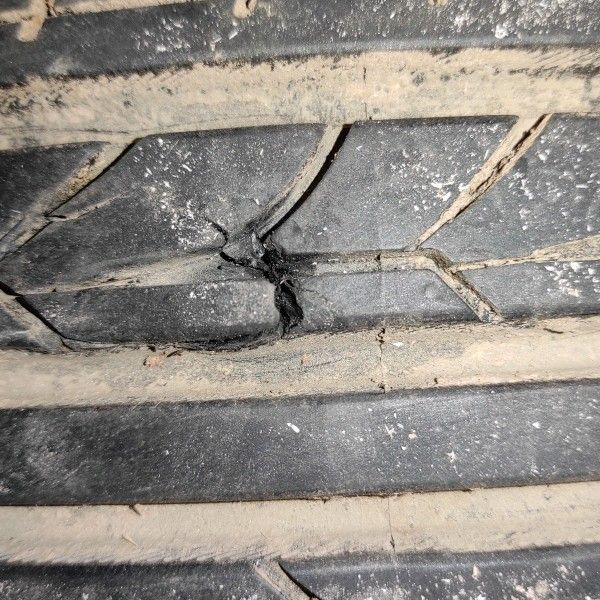tr: (193, 211, 320, 356)
